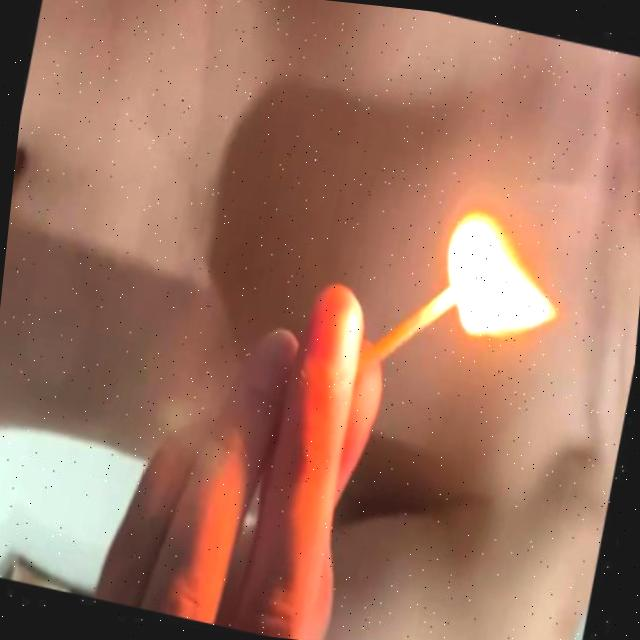fire: (424, 194, 589, 363)
